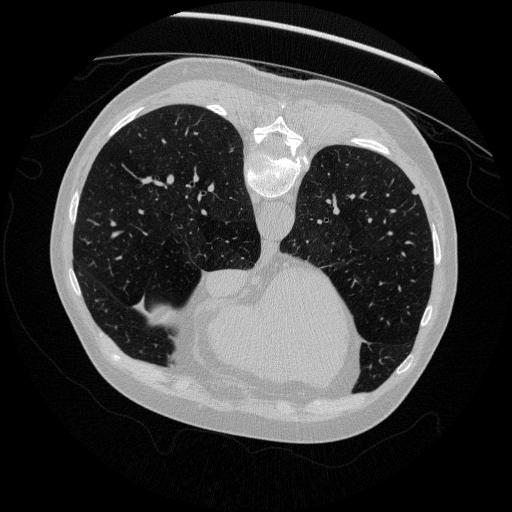nodule: (408, 186, 421, 199)
